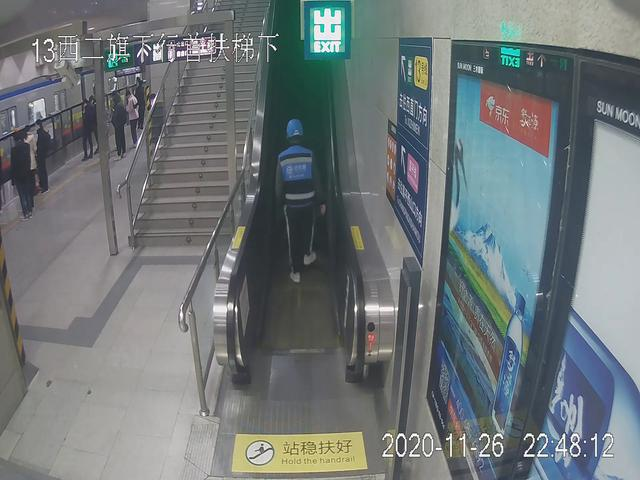person: (271, 119, 322, 280), (9, 127, 37, 224), (35, 120, 54, 196), (110, 94, 128, 159), (80, 98, 94, 165), (128, 90, 139, 152)
